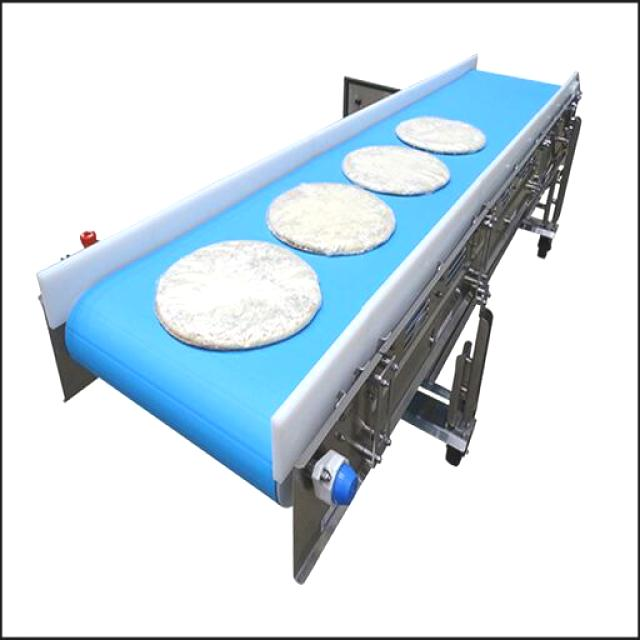conveyor: (66, 69, 564, 504)
